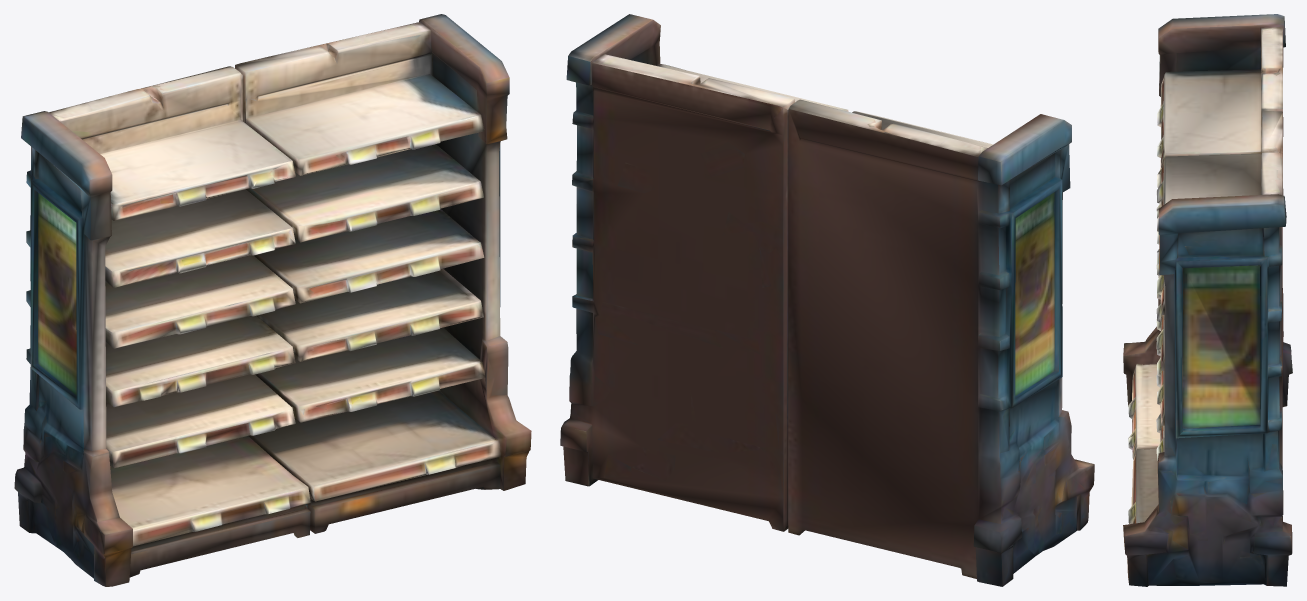
File: huojia-3.glb
3 renders of one model, left to right at view 1: azimuth 30°, elevation 25°; view 2: azimuth 150°, elevation 25°; view 3: azimuth 270°, elevation 25°, orthographic. The views are drawn at different scales.
Parts seen in each view (by area): view 1: node_0; view 2: node_0; view 3: node_0.
Part boxes in pixels (x1,y1,x2,y2): node_0: [14, 14, 531, 586]; node_0: [560, 14, 1094, 586]; node_0: [1123, 14, 1292, 586].
Size of the model in its own units: 0.8616 by 0.7956 by 0.3198.
1 material, 1 textured.
